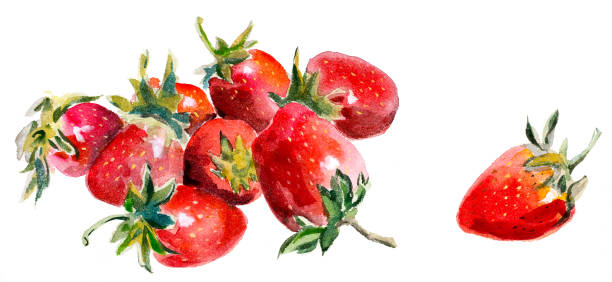Fresa: (248, 96, 380, 242), (456, 135, 583, 248), (135, 178, 250, 273), (299, 44, 405, 146), (85, 114, 187, 218), (33, 95, 126, 186), (206, 41, 297, 131), (129, 61, 215, 139)
